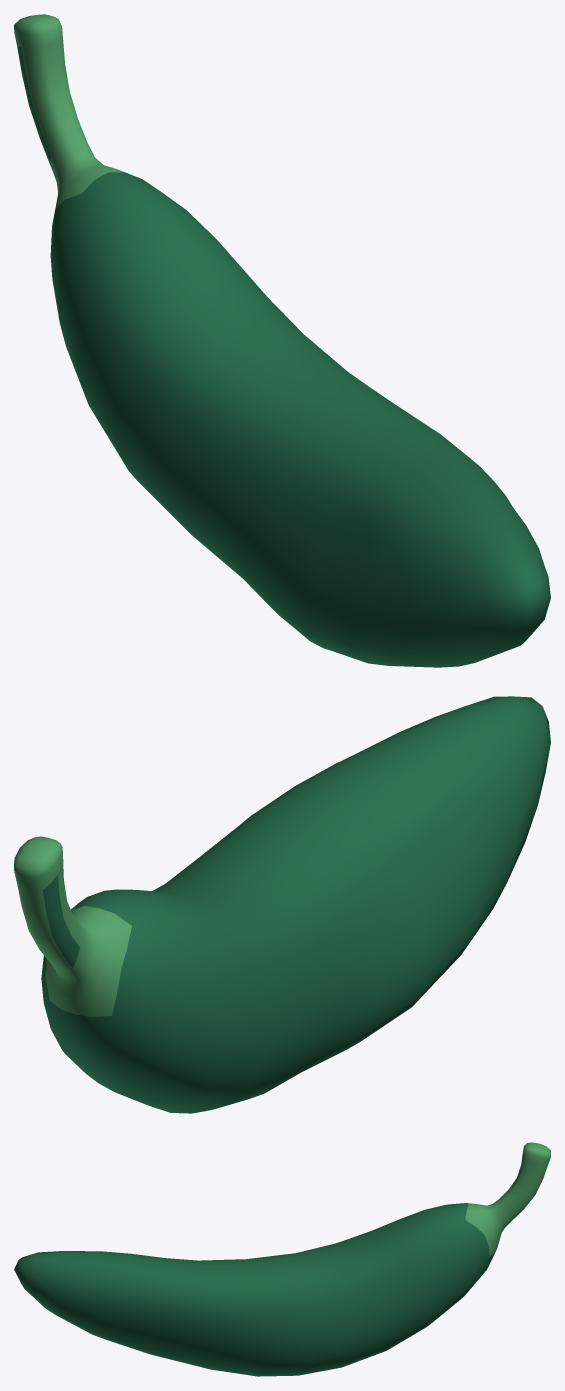
The model's file is Chilli_05.dae.
3 renders of one model, top to bottom at view 1: azimuth 30°, elevation 25°; view 2: azimuth 150°, elevation 25°; view 3: azimuth 270°, elevation 25°, orthographic. The views are drawn at different scales.
Parts seen in each view (by area): view 1: Chilli_05_LOD0; view 2: Chilli_05_LOD0; view 3: Chilli_05_LOD0.
Boxes of the visible parts, bbox=[...] form: Chilli_05_LOD0: bbox=[14, 14, 550, 667]; Chilli_05_LOD0: bbox=[14, 696, 550, 1113]; Chilli_05_LOD0: bbox=[14, 1142, 550, 1376].
Size of what is drawn, in the model's own units: 1.18 by 5.3 by 2.4.
